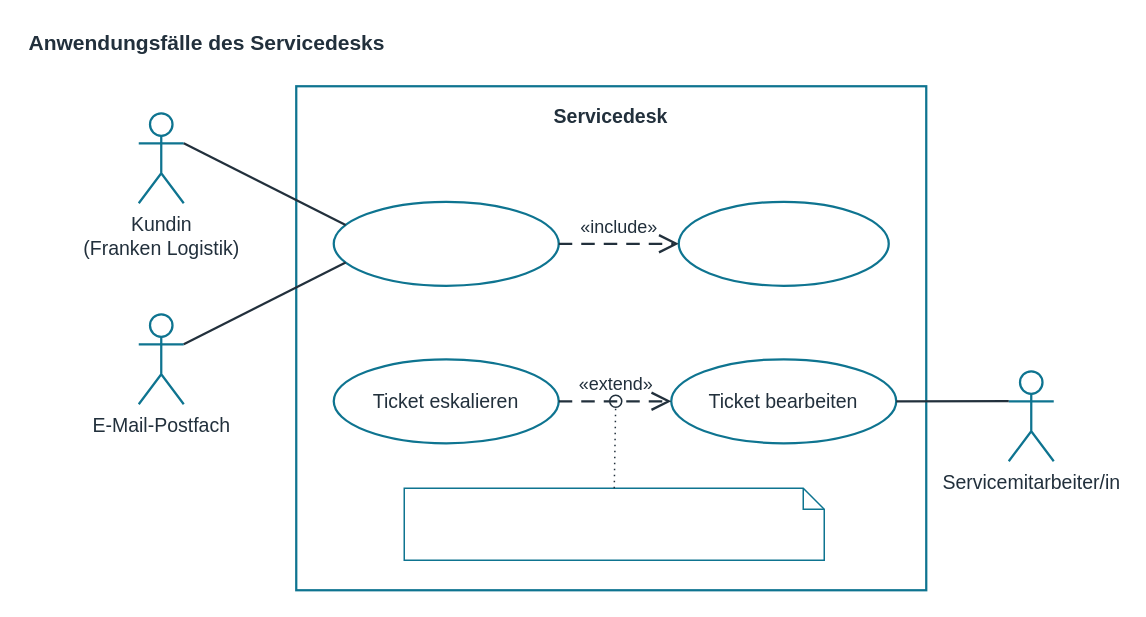
This 1146x617 diagram has some shape labels left out. The shapes that lost their labels are listed below. From the top down, each one's centre as x and y in pixels, then its label:
At point (445, 243): "Störung melden".
At point (783, 243): "Ticket anlegen".
At point (613, 523): "Erweiterungspunkt: Lösungsversuch Bedingung: {Störung nicht selbst lösbar}".
